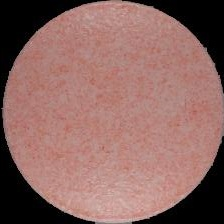35356-909: (0, 0, 224, 224)
